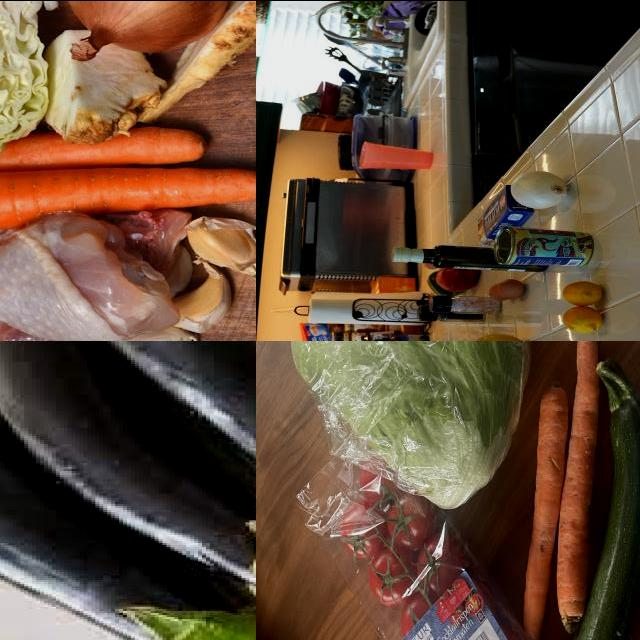bell_pepper: (418, 306, 487, 322), (436, 265, 478, 291), (429, 272, 459, 294)
cabbage: (288, 341, 533, 514)
carrot: (1, 165, 257, 240), (553, 341, 600, 639), (1, 122, 210, 186), (512, 383, 564, 640)
egg: (500, 278, 528, 300), (491, 283, 516, 303)
eggplant: (1, 341, 257, 607), (1, 393, 254, 640), (64, 341, 257, 515)
garlic: (171, 214, 257, 284), (162, 262, 237, 341)
onion: (45, 1, 239, 59), (511, 170, 571, 208)
tomato: (366, 536, 416, 596)
zucchini: (564, 351, 640, 640)
